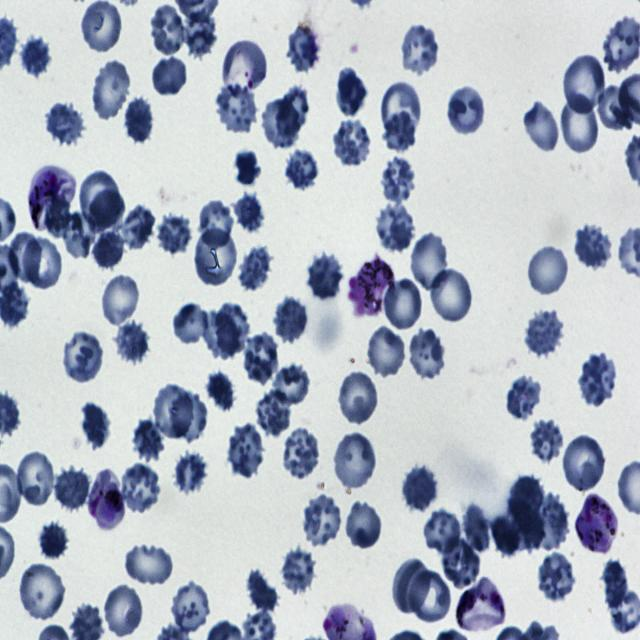gametocyte: (350, 253, 396, 320)
red blood cell: (16, 561, 67, 621), (78, 167, 124, 233), (508, 475, 544, 554), (428, 265, 474, 324), (562, 433, 607, 493), (90, 58, 132, 122), (332, 430, 376, 491), (562, 52, 606, 113), (560, 93, 601, 157), (122, 541, 174, 589), (195, 228, 238, 286), (365, 323, 408, 380), (213, 80, 260, 132), (15, 450, 57, 508), (391, 556, 432, 615), (337, 370, 380, 426), (406, 326, 449, 382), (170, 580, 213, 636), (440, 534, 482, 591), (62, 329, 105, 384), (21, 235, 64, 290), (152, 383, 194, 439), (528, 494, 570, 550), (301, 494, 345, 547), (279, 427, 321, 482), (383, 275, 425, 330), (100, 272, 141, 328), (578, 351, 616, 411), (528, 242, 570, 296), (398, 22, 440, 76), (374, 199, 416, 253), (410, 231, 448, 290), (447, 82, 487, 138), (536, 549, 578, 602), (408, 569, 449, 622), (226, 423, 266, 477), (148, 3, 188, 57), (82, 0, 122, 54), (119, 465, 162, 515), (240, 332, 280, 385), (168, 391, 208, 444), (523, 308, 565, 358), (522, 101, 561, 154), (103, 585, 143, 636), (200, 309, 240, 360), (330, 118, 372, 166), (344, 498, 384, 548), (306, 252, 345, 303), (382, 83, 421, 134), (422, 508, 463, 556), (44, 100, 86, 146), (260, 99, 300, 147), (197, 200, 236, 249), (182, 8, 220, 58), (379, 156, 416, 207), (572, 222, 613, 268), (597, 85, 637, 132), (334, 64, 368, 119), (504, 371, 542, 420), (86, 190, 127, 235), (216, 303, 250, 357), (236, 243, 272, 294), (54, 465, 91, 514), (78, 399, 112, 452), (8, 231, 42, 284), (90, 224, 126, 274), (279, 548, 318, 594), (402, 465, 438, 514), (117, 204, 156, 249), (459, 503, 492, 556), (284, 145, 322, 191), (275, 86, 311, 134), (272, 364, 312, 407), (172, 301, 210, 346), (287, 23, 321, 72), (122, 96, 155, 146), (64, 212, 98, 260), (155, 213, 192, 257), (114, 320, 150, 365), (171, 450, 208, 492), (256, 390, 289, 435), (530, 417, 563, 462), (489, 514, 521, 560), (382, 110, 416, 153), (19, 32, 52, 76), (151, 58, 188, 97), (275, 296, 307, 341), (246, 568, 278, 613), (133, 418, 165, 461), (233, 191, 264, 235), (205, 370, 235, 414), (37, 523, 71, 561), (44, 196, 74, 237)
ring: (222, 38, 269, 102)
trophozoite: (28, 164, 76, 237), (574, 492, 618, 556), (454, 578, 506, 632), (86, 470, 126, 532)
